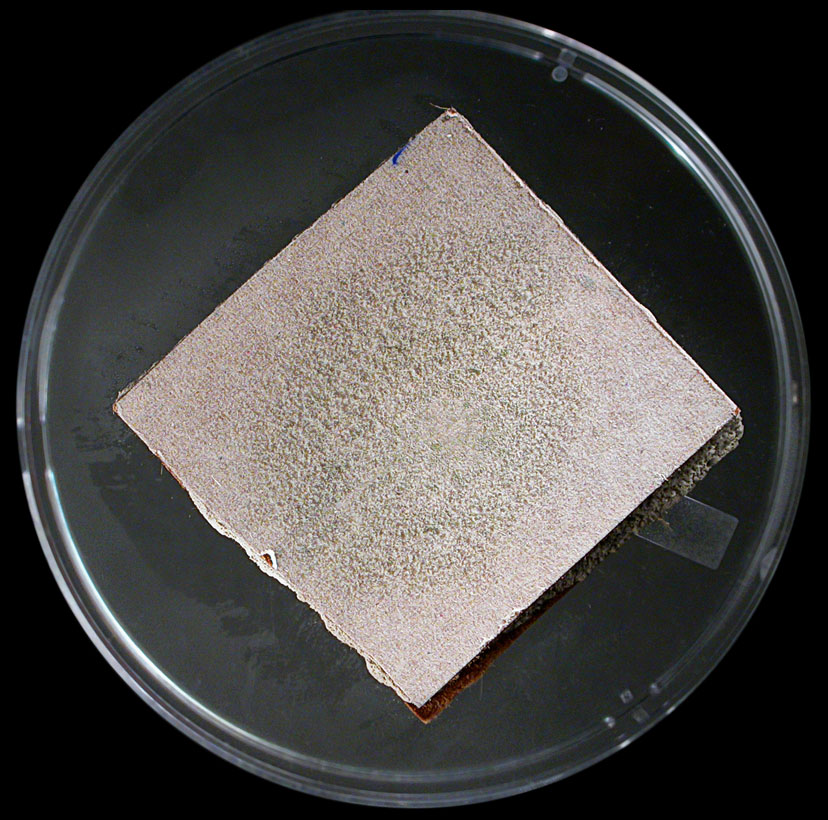Penicillium: (287, 280, 558, 575)
